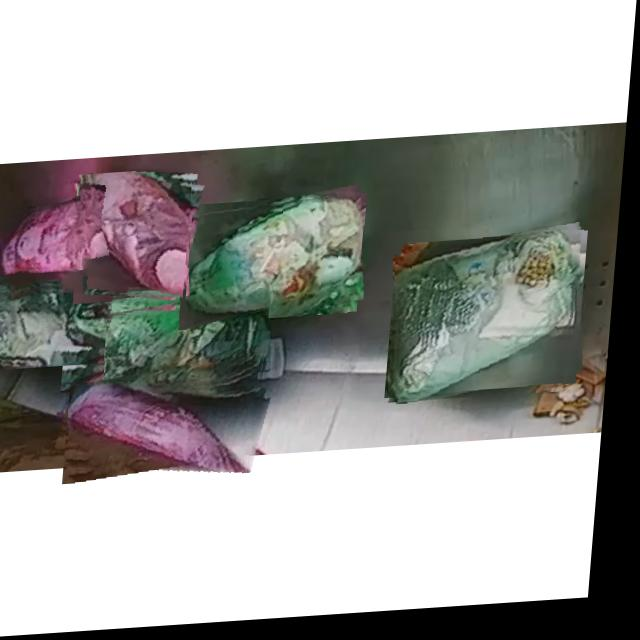general_trashbag: (398, 238, 583, 408), (190, 203, 365, 326), (70, 304, 273, 393), (0, 285, 110, 369)
other_trashbag: (75, 380, 255, 476), (83, 174, 193, 301), (6, 203, 89, 275)
